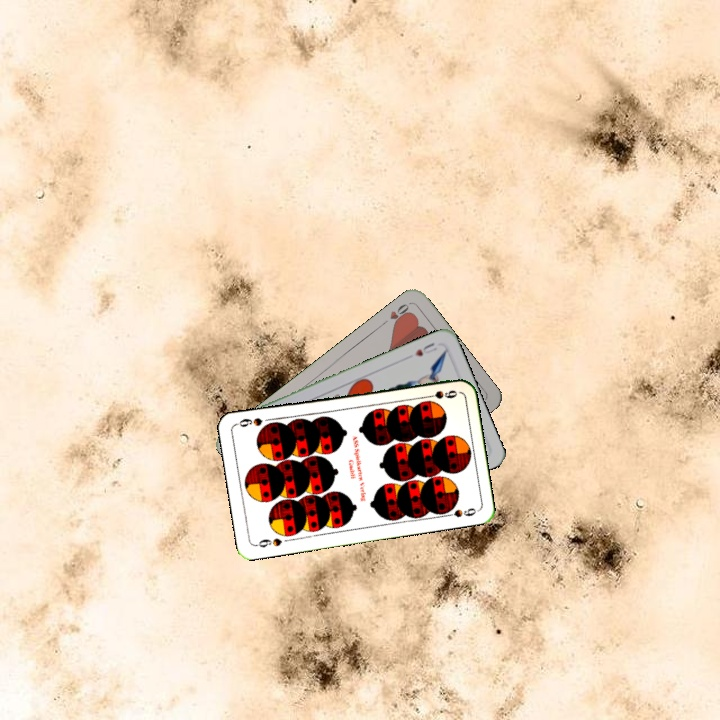HO: (377, 299, 413, 328)
HU: (411, 338, 440, 359)
S9: (419, 386, 460, 401), (251, 534, 284, 550)
